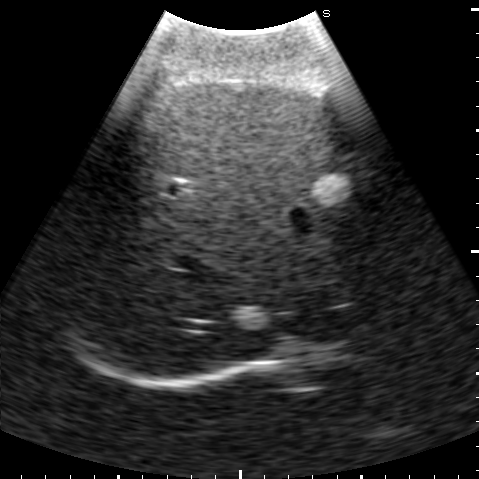S5: (130, 81, 360, 215)
S7: (69, 184, 173, 347)
S8: (131, 201, 396, 376)
Tumor: (311, 172, 348, 204), (234, 304, 269, 332)
